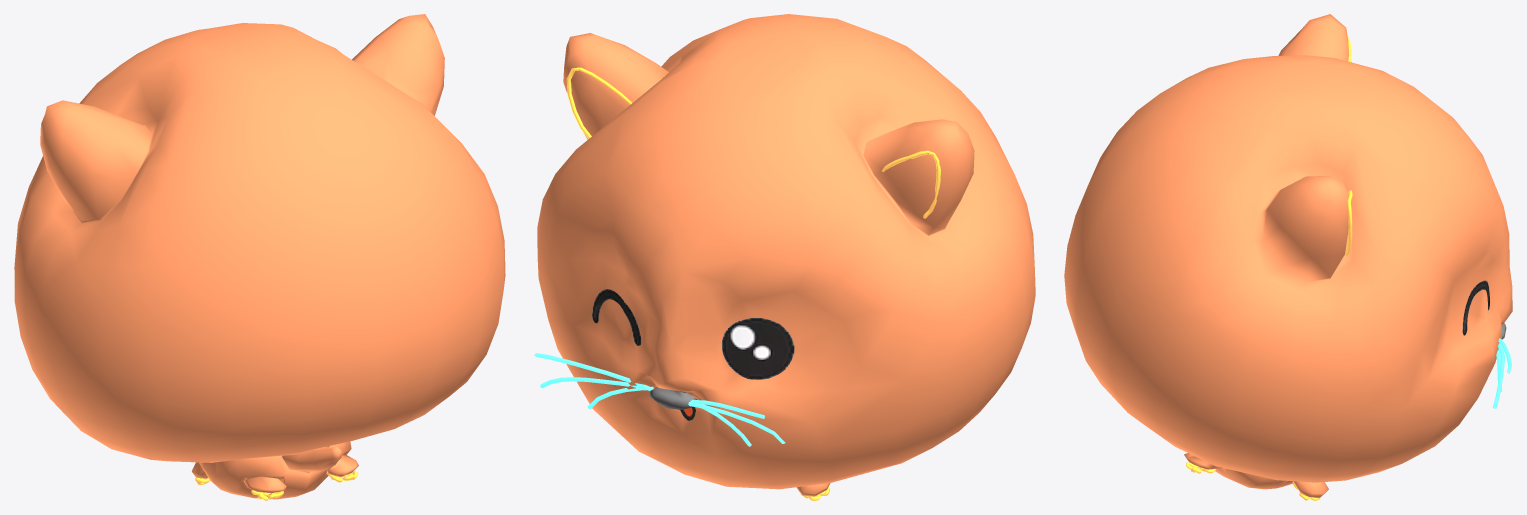
File: inflatable-critter.glb
The picture shows the model from 3 angles, left to right: view 1: azimuth 30°, elevation 25°; view 2: azimuth 150°, elevation 25°; view 3: azimuth 270°, elevation 25°; orthographic projection. The views are drawn at different scales.
Parts seen in each view (by area): view 1: Deco04_Export; view 2: Deco04_Export, Deco01.007, BézierCurve.003, BézierCurve.002; view 3: Deco04_Export, BézierCurve.002, BézierCurve.003.
Boxes of the visible parts, left/top/right/bottom form: Deco04_Export: left=14, top=14, right=505, bottom=499; Deco04_Export: left=537, top=14, right=1035, bottom=496; Deco01.007: left=592, top=289, right=794, bottom=420; BézierCurve.003: left=534, top=353, right=785, bottom=446; BézierCurve.002: left=566, top=67, right=940, bottom=500; Deco04_Export: left=1064, top=14, right=1512, bottom=498; BézierCurve.002: left=1186, top=37, right=1352, bottom=500; BézierCurve.003: left=1492, top=338, right=1511, bottom=408.
Bounding box in the file's own units: 6.82 × 6.52 × 6.53.
5 materials, 1 textured.
